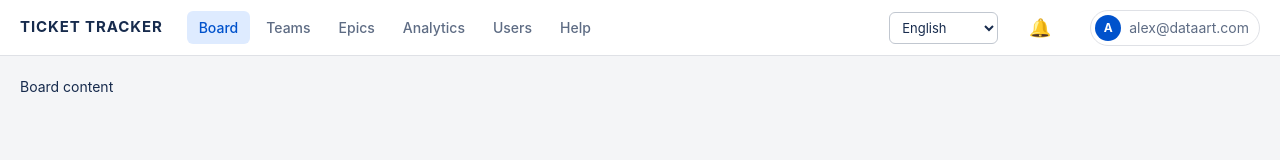
Test: AppLayout notification bell › navigates to /notifications when the bell is clicked
Expected: the text "Board content" is shown, [20, 78, 113, 95]
Click the button named "notifications": (1040, 28) [1022, 10, 1058, 46]
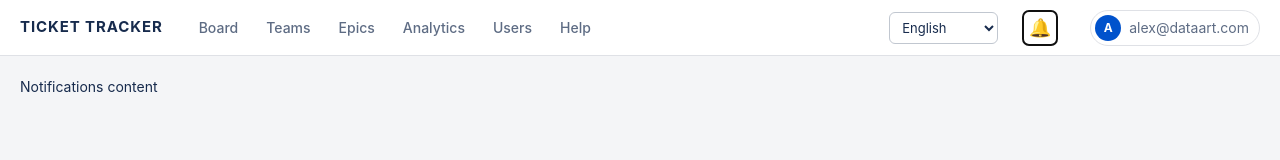
Result: the text "Notifications content" is shown at [20, 78, 158, 95]
